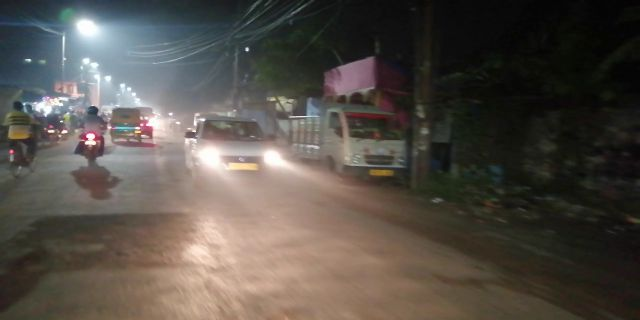Autorickshaw: (111, 108, 146, 143)
Car: (186, 114, 287, 193)
Minitruck: (301, 111, 407, 189)
Motorbike: (76, 106, 103, 162)
